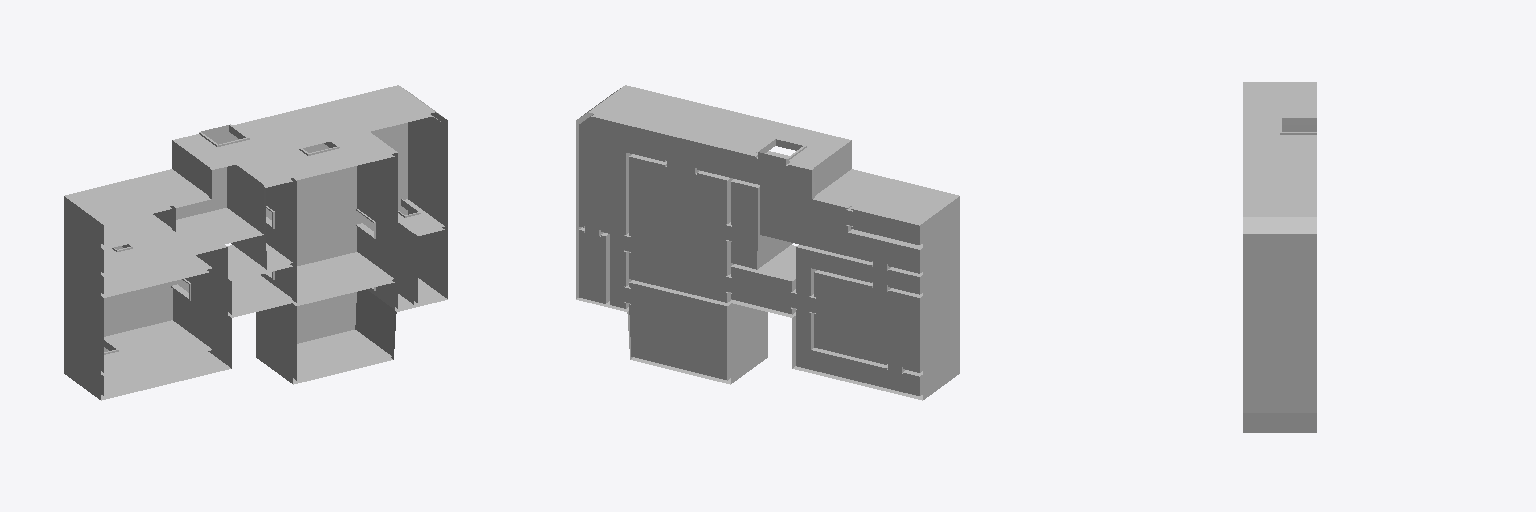
File: 1stFloorUVD_1.obj
3 renders of one model, left to right at view 1: azimuth 30°, elevation 25°; view 2: azimuth 150°, elevation 25°; view 3: azimuth 270°, elevation 25°, orthographic.
Parts seen in each view (by area): view 1: 1stFloorUVD_(1); view 2: 1stFloorUVD_(1); view 3: 1stFloorUVD_(1).
Boxes of the visible parts, x1=… form: 1stFloorUVD_(1): x1=64, y1=85, x2=447, y2=400; 1stFloorUVD_(1): x1=576, y1=85, x2=959, y2=400; 1stFloorUVD_(1): x1=1243, y1=82, x2=1316, y2=432.
Size of the model in its own units: 215 by 142 by 40.